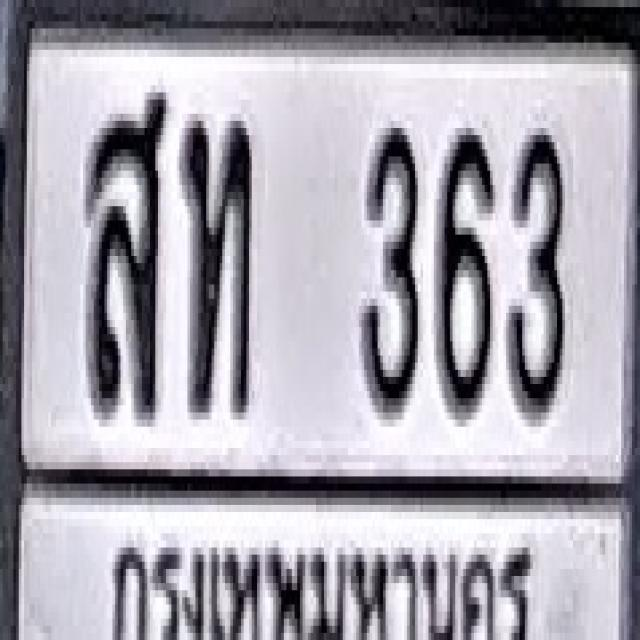3: (506, 128, 565, 420), (360, 121, 419, 412)
6: (437, 124, 492, 416)
A23: (182, 114, 252, 412)
A40: (86, 85, 166, 412)
